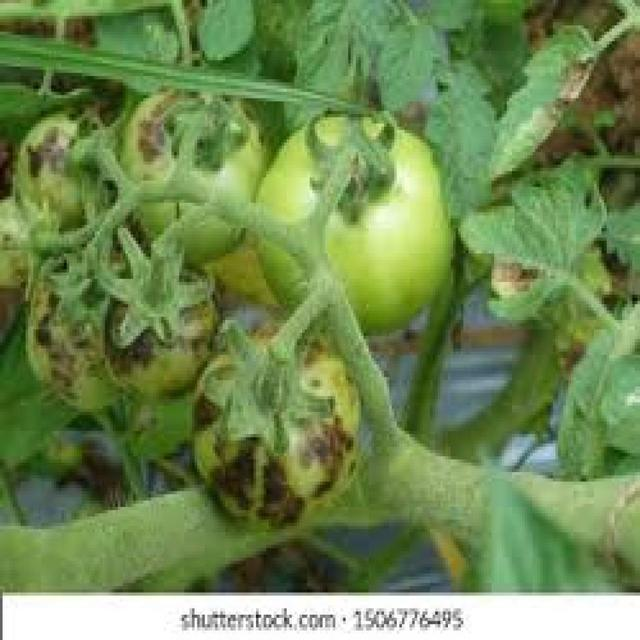Spotted wilt Virus Fruit: (41, 91, 185, 288)
